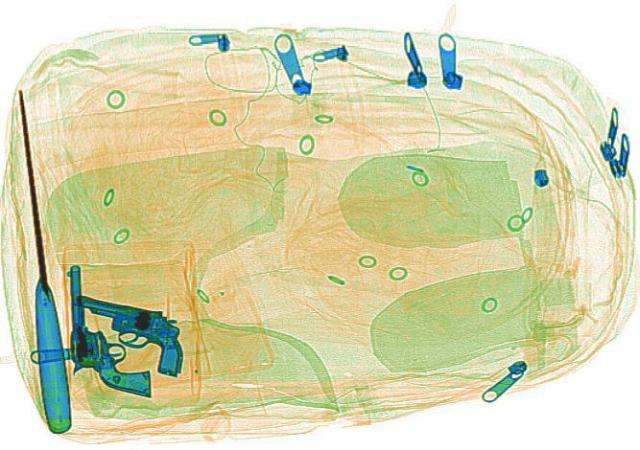Gun: (44, 290, 208, 375), (62, 263, 152, 396)
Knife: (3, 89, 73, 429)
